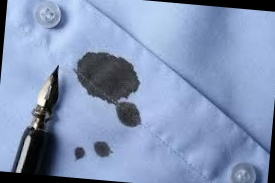ink: (74, 51, 140, 106), (117, 107, 143, 127), (94, 142, 110, 157), (74, 147, 85, 160)
